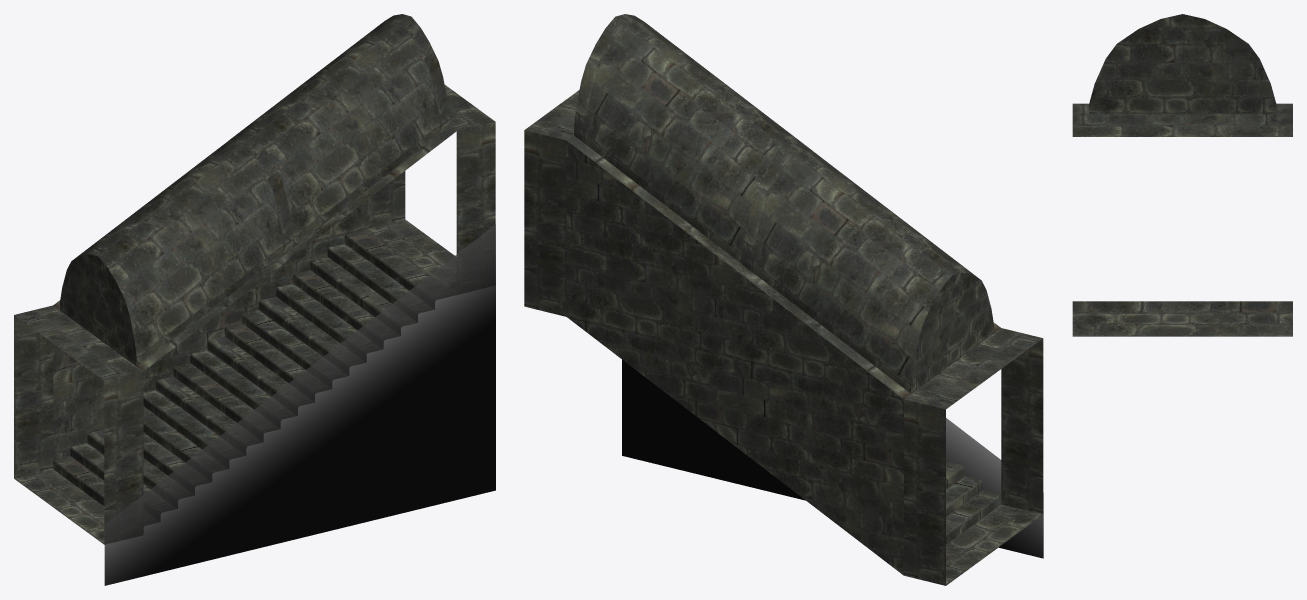
File: stair_U_ground.glb
3 renders of one model, left to right at view 1: azimuth 30°, elevation 25°; view 2: azimuth 150°, elevation 25°; view 3: azimuth 270°, elevation 25°, orthographic. The views are drawn at different scales.
Visible parts, largest first — view 1: ignore.001, Plane, Stairs; view 2: ignore.001, Plane, Stairs; view 3: ignore.001, Stairs.
Boxes of the visible parts, bbox=[...] form: ignore.001: bbox=[14, 14, 495, 544]; Plane: bbox=[104, 224, 495, 585]; Stairs: bbox=[14, 219, 456, 544]; ignore.001: bbox=[524, 14, 1043, 585]; Plane: bbox=[622, 360, 1043, 558]; Stairs: bbox=[946, 461, 1042, 585]; ignore.001: bbox=[1072, 14, 1292, 136]; Stairs: bbox=[1072, 301, 1292, 336].
Size of what is drawn, in the model's own units: 10 by 11 by 4.01.
3 materials, 3 textured.
